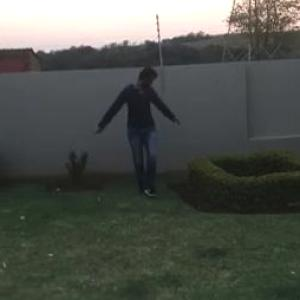land: (86, 62, 194, 212)
